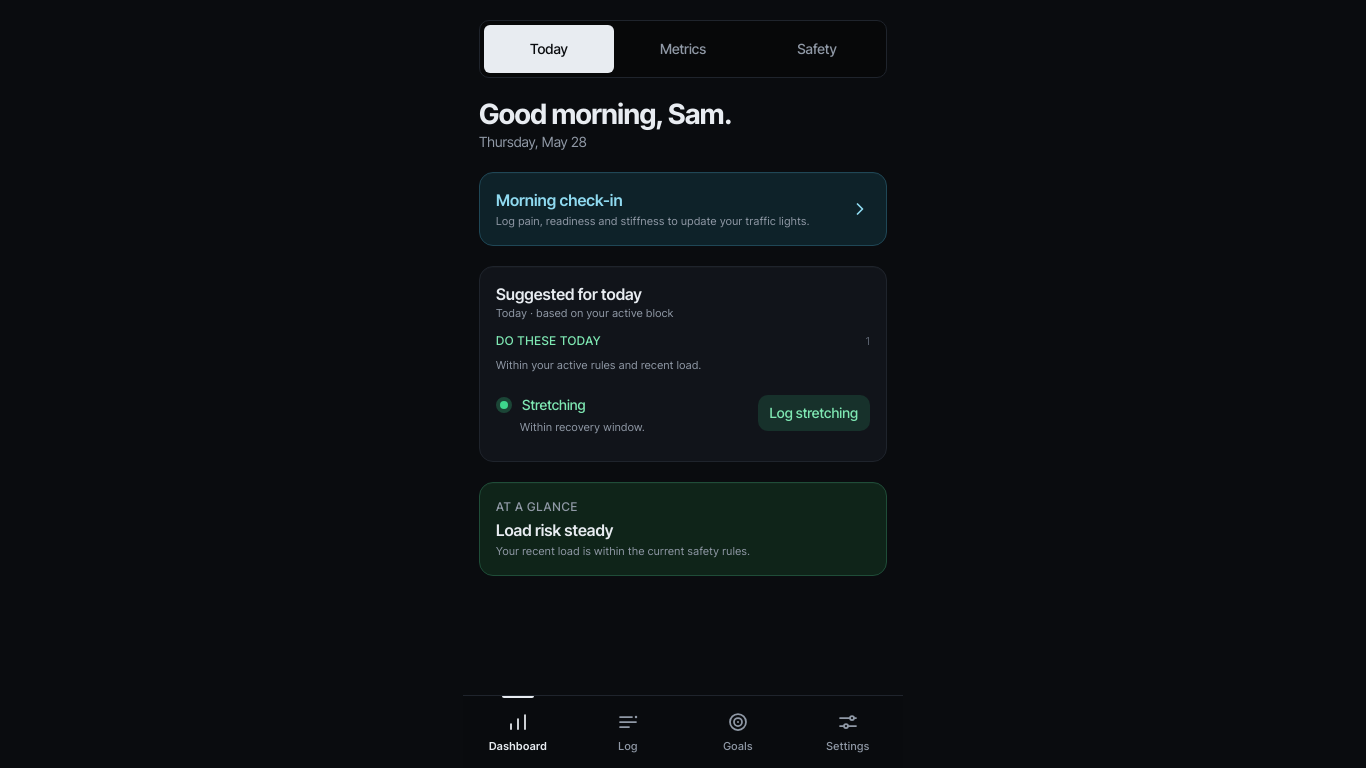
Test: InlineLogSheet quick-log contract (F9.10) › opens the quick-log sheet from a dashboard suggestion instead of the full LogActivityScreen
What coordinates should you click on to do the following:
click the button "Log stretching"
I would click on:
 (814, 413)
Its box is left=758, top=395, right=870, bottom=431.
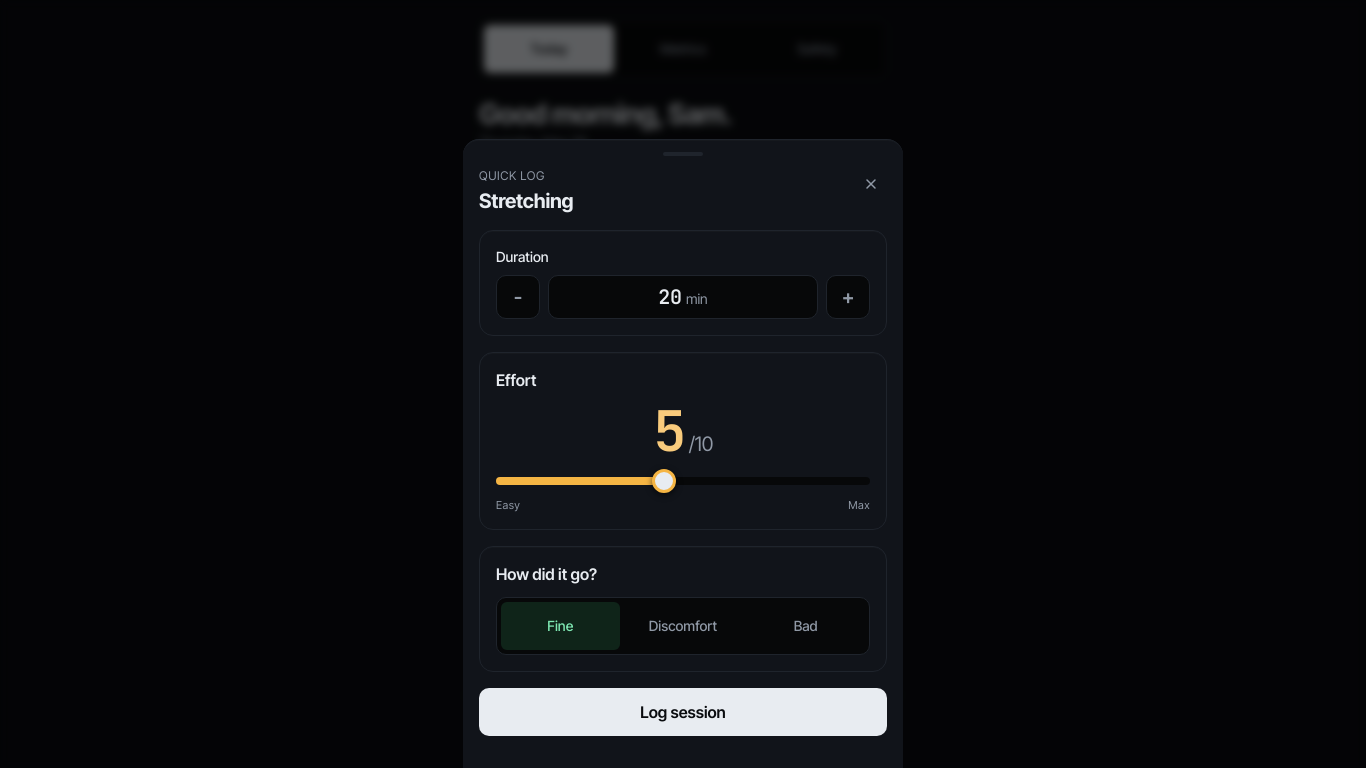
Expected: the button named "Decrease" is shown, left=496, top=275, right=540, bottom=319
Expected: the button named "Increase" is shown, left=826, top=275, right=870, bottom=319
Expected: the slider is shown, left=496, top=477, right=870, bottom=485
